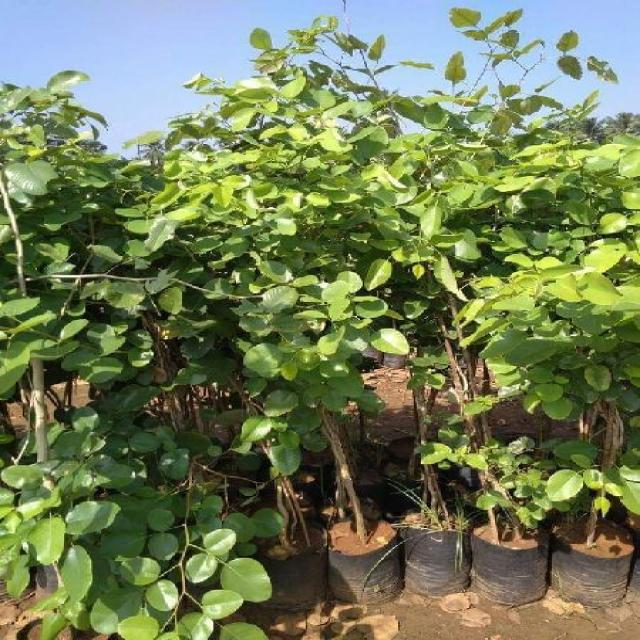Medicinal-Sandalwood: (0, 6, 640, 504), (0, 450, 282, 640)
